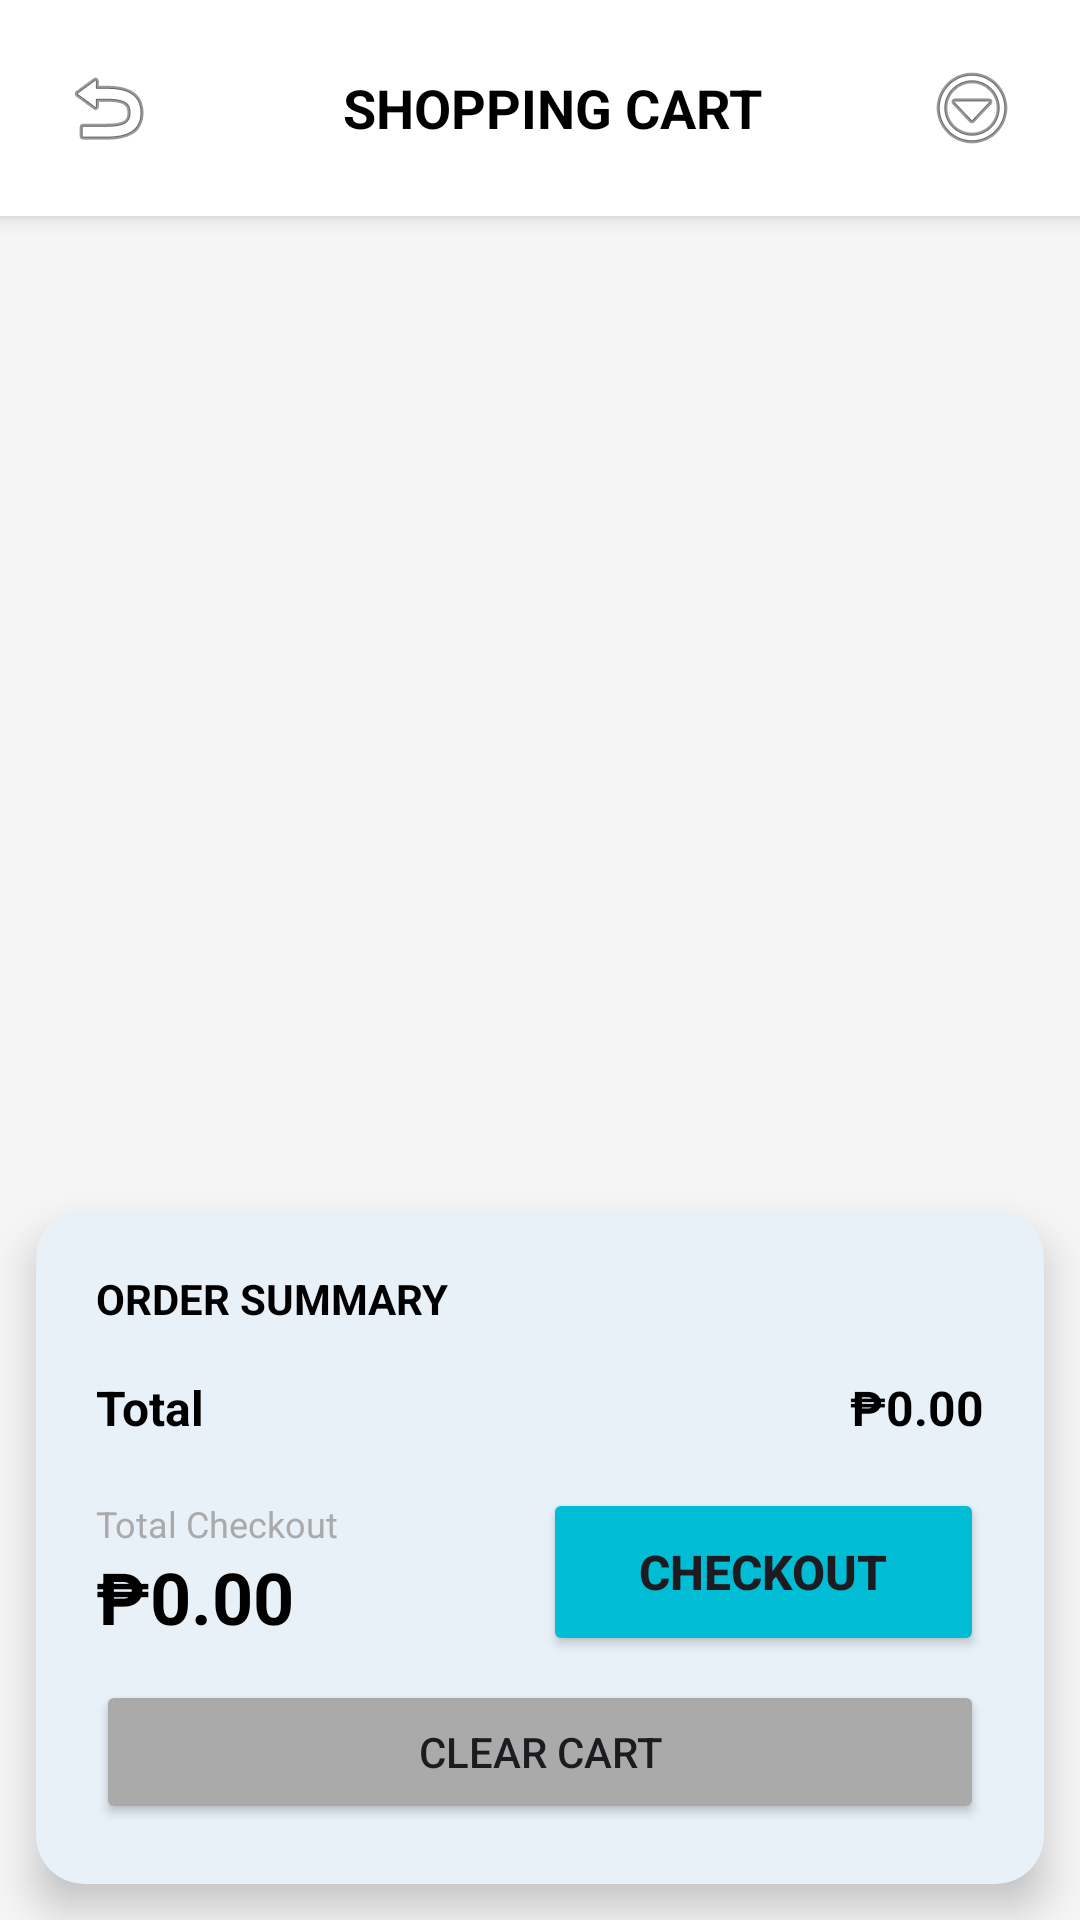

Icons on this 1080x1920 Android screen, each with the point to tap as [x,y]:
Back: [109,108]
More options: [972,108]
